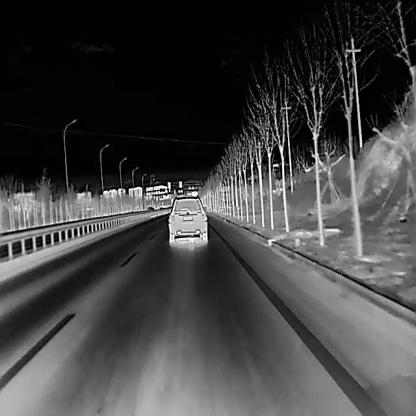car: (166, 194, 208, 246)
